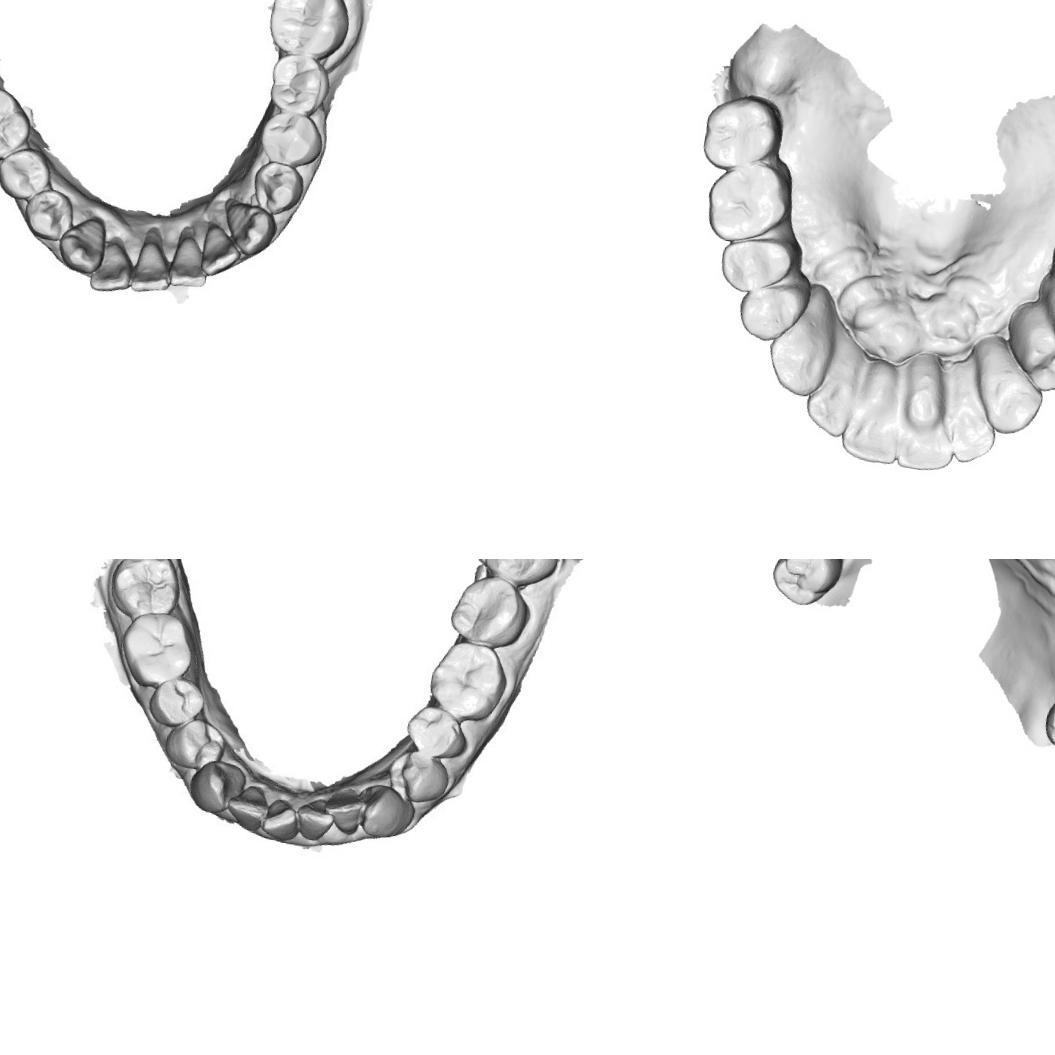canine: (762, 278, 842, 401), (971, 348, 1050, 440), (218, 195, 278, 256), (359, 785, 418, 843), (188, 760, 244, 818), (56, 211, 109, 272)
incisor: (895, 355, 968, 476), (838, 354, 910, 468), (936, 360, 1006, 467), (802, 324, 866, 441), (88, 235, 140, 299), (130, 235, 179, 300), (168, 232, 216, 290), (196, 225, 246, 280), (228, 780, 274, 832), (294, 798, 336, 844), (326, 788, 366, 834), (260, 798, 300, 840)
molar: (700, 149, 798, 252), (696, 86, 789, 178), (447, 572, 532, 656), (427, 638, 510, 722), (120, 608, 194, 688), (268, 0, 351, 61), (108, 559, 182, 622), (267, 48, 331, 117), (767, 559, 846, 611), (0, 86, 33, 158), (477, 559, 562, 586), (1040, 692, 1055, 756)
premolar: (734, 263, 814, 347), (714, 228, 802, 300), (999, 302, 1055, 397), (256, 109, 328, 173), (384, 742, 456, 803), (405, 707, 476, 766), (168, 720, 230, 774), (22, 185, 74, 242), (250, 159, 302, 213), (0, 148, 53, 200), (1028, 271, 1055, 357), (154, 678, 201, 723)
